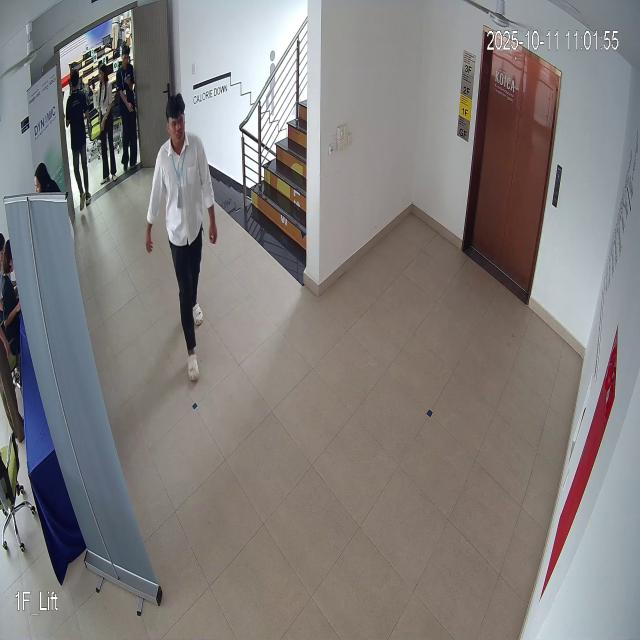face: (162, 91, 193, 150)
